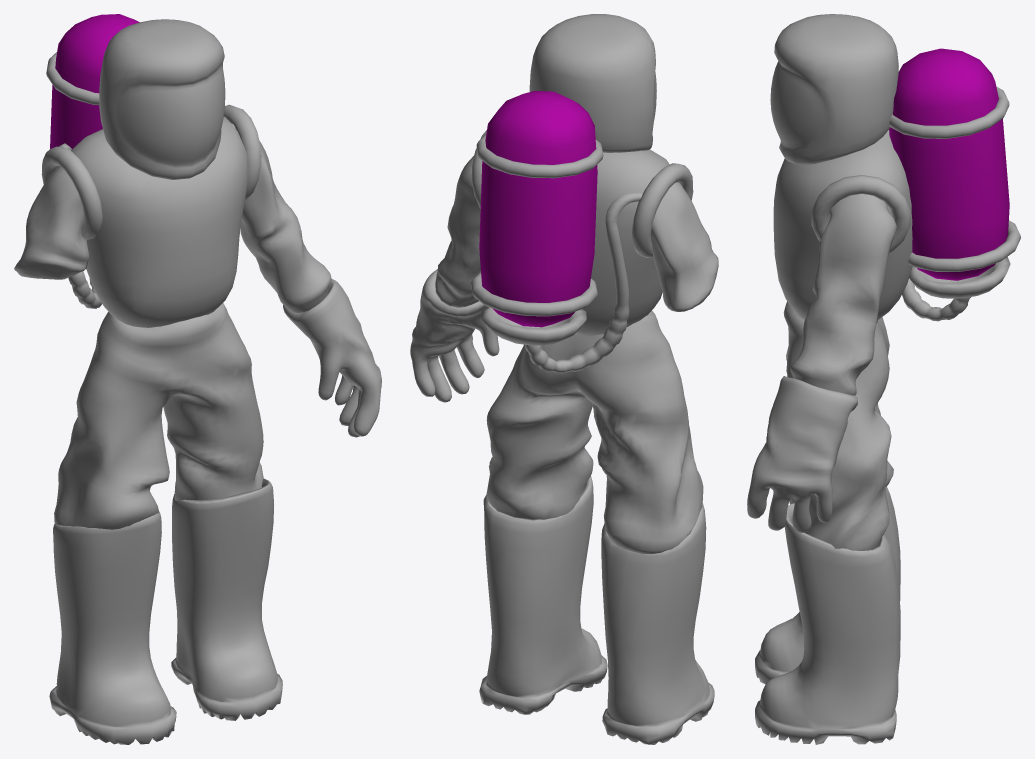
File: SM_Character.fbx
3 renders of one model, left to right at view 1: azimuth 30°, elevation 25°; view 2: azimuth 150°, elevation 25°; view 3: azimuth 270°, elevation 25°, orthographic.
Parts seen in each view (by area): view 1: character, capsule; view 2: character, capsule; view 3: character, capsule.
Boxes of the visible parts, x1,y1,x2,y2 form: character: [14, 19, 381, 744]; capsule: [50, 14, 139, 148]; character: [410, 14, 718, 744]; capsule: [479, 90, 597, 327]; character: [747, 14, 1020, 744]; capsule: [889, 48, 1009, 280].
Size of the model in its own units: 88.89 by 178 by 65.65.
